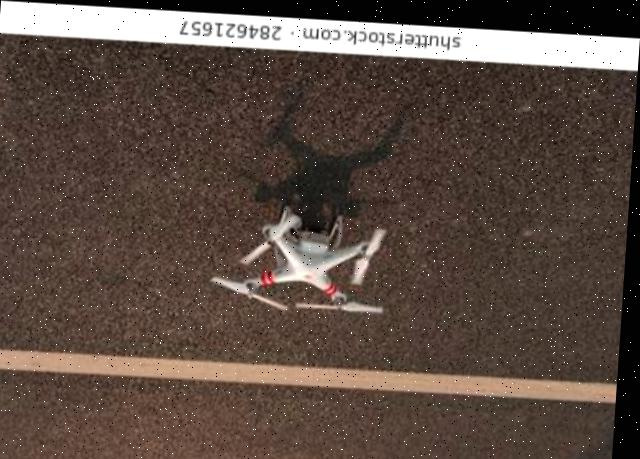drone: (204, 188, 439, 325)
